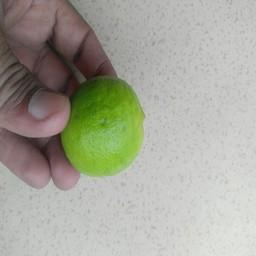Good_lime: (61, 76, 146, 180)
